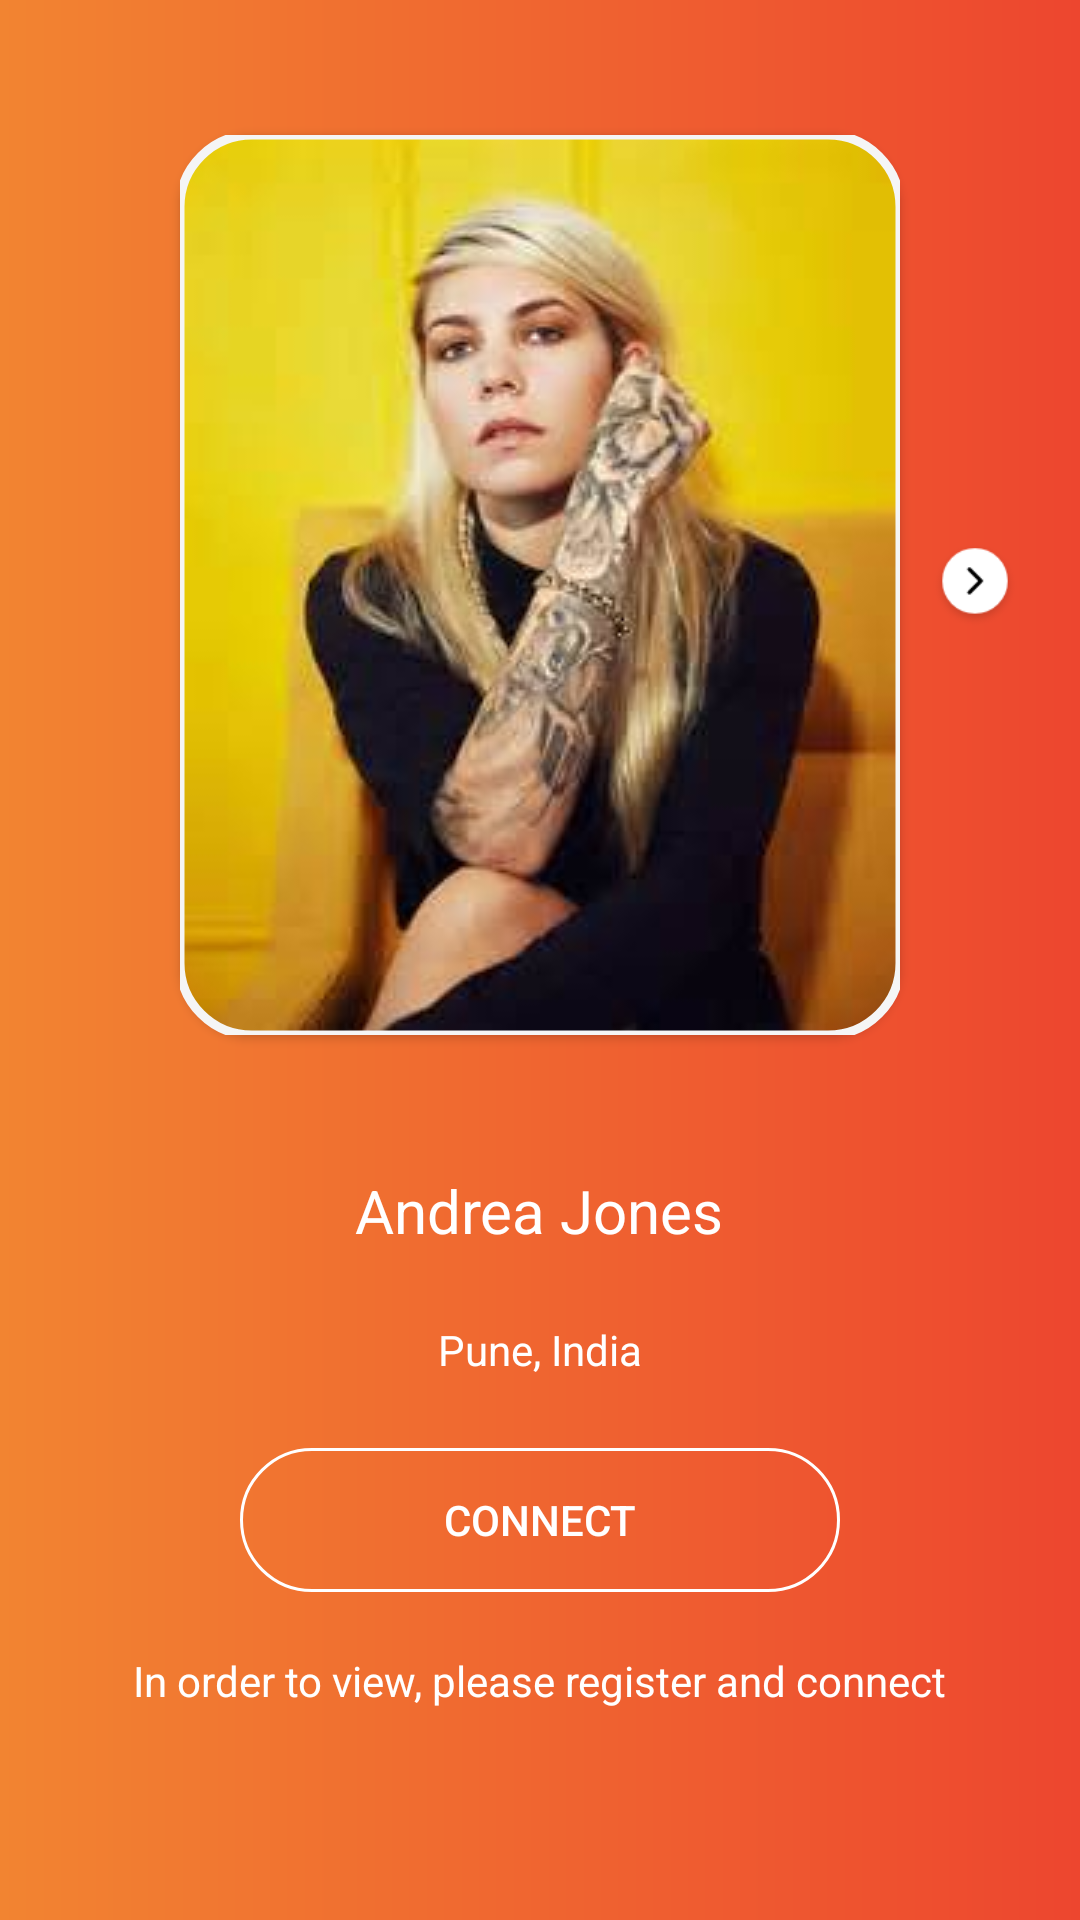

Icons on this 1080×1920 Android screen, each with its box as (x1, y1, x2, y2):
nextbutton: (942, 548, 1008, 616)
